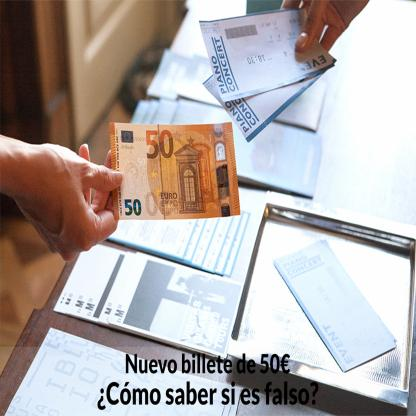billete: (108, 120, 242, 219)
